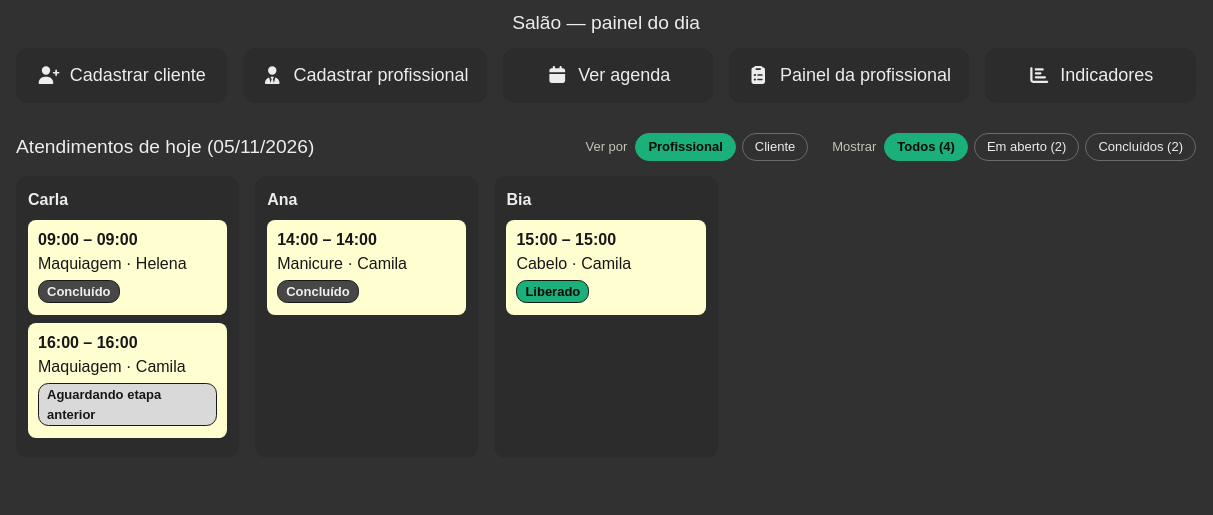
Test case: telas › painel do dia troca para a visão por cliente e filtra em aberto, lembrando a escolha
Expected: the button "Todos (4)" is shown, [884,133,968,161]
Click the button "Cliente". click: coordinates (775, 147)
box: [742,133,808,161]
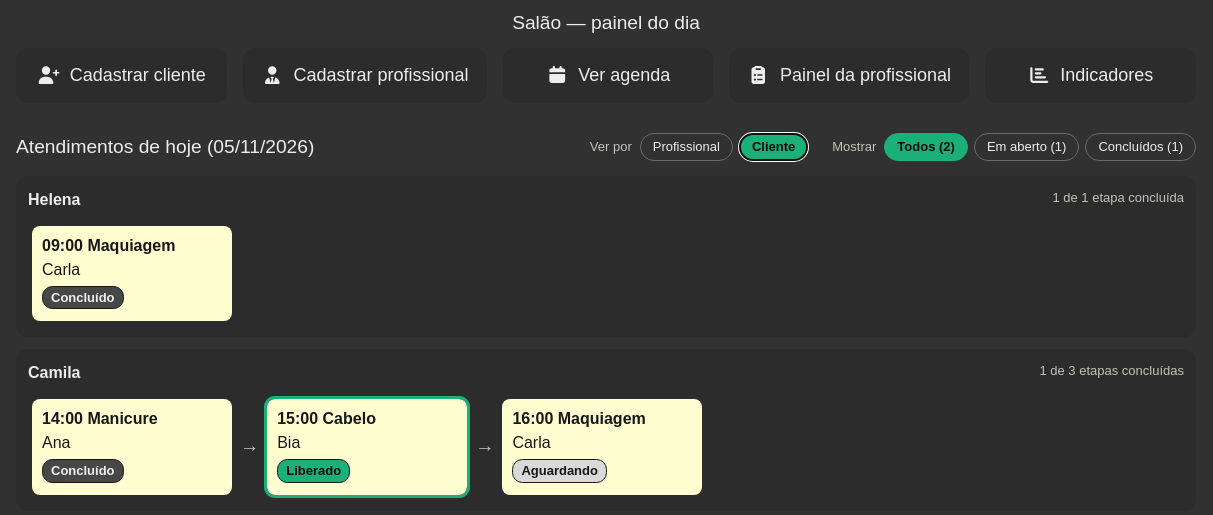
Expected: the button "Todos (2)" is shown, [884,133,968,161]
Expected: the text "1 de 3 etapas concluídas" is shown, [1039,361,1184,385]
Click the button "Em aberto (1)". click: coordinates (1027, 147)
box: [974,133,1079,161]
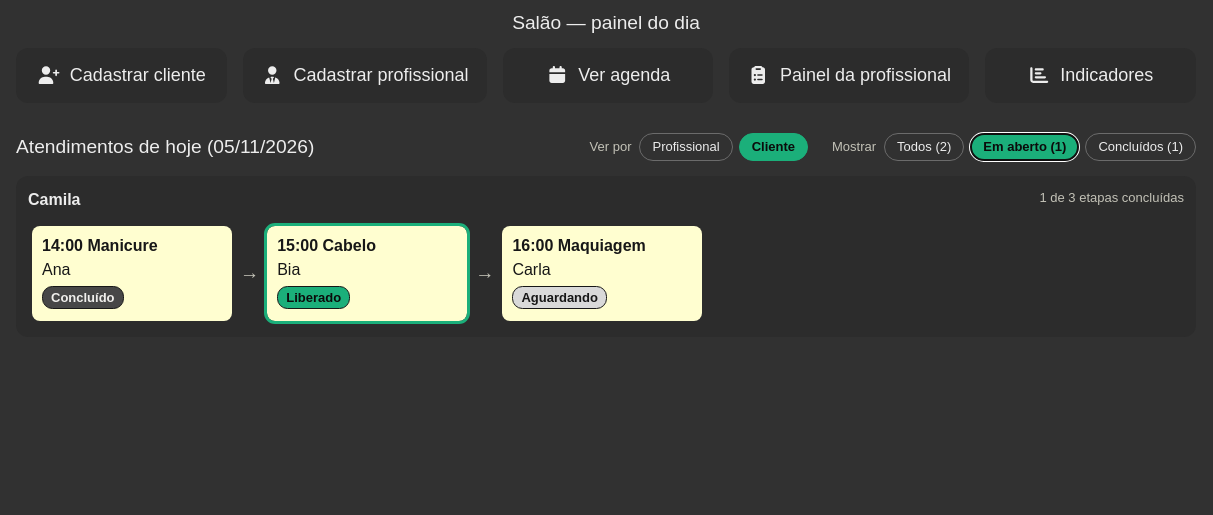
Expected: the heading "Camila" is shown, [28,188,80,212]
Expected: the heading "Helena" is gone
